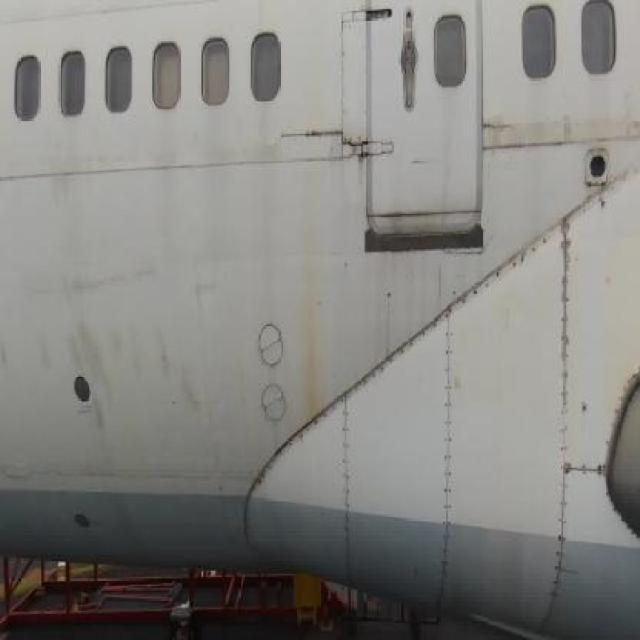Missing-Rivet: (549, 202, 574, 600), (456, 236, 547, 322), (355, 318, 436, 405), (436, 299, 458, 598), (273, 409, 338, 485), (338, 382, 357, 573), (576, 445, 610, 492)
Rust: (284, 169, 334, 423)
Scartch: (0, 309, 202, 485), (22, 249, 166, 309), (483, 110, 577, 159), (187, 264, 221, 310)
